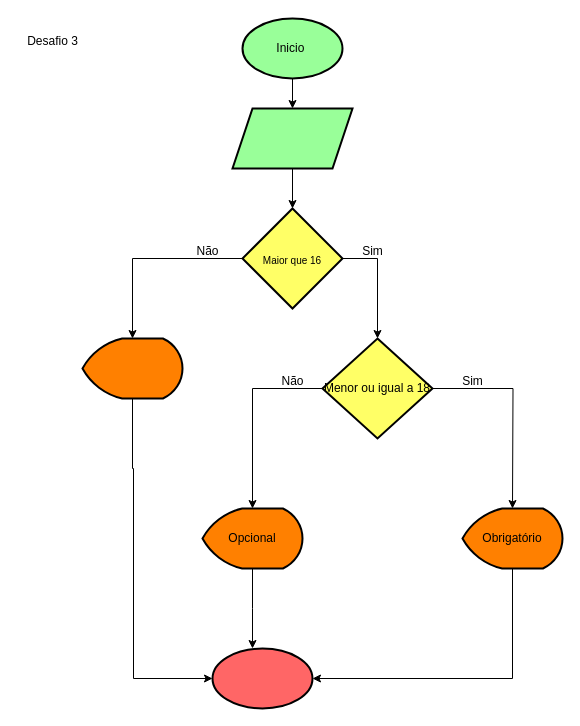
This 580x726 diagram has some shape labels left out. The shapes that lost their labels are listed below. From the top down, each one's box as (x1, y1, x2, y2) in pixels, then its label:
(231, 107, 353, 169): Idade
(81, 337, 183, 399): Não pode
(211, 647, 313, 709): Fim
